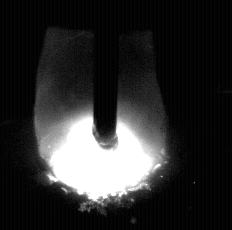arame: (94, 0, 118, 149)
poca: (35, 0, 168, 230)
